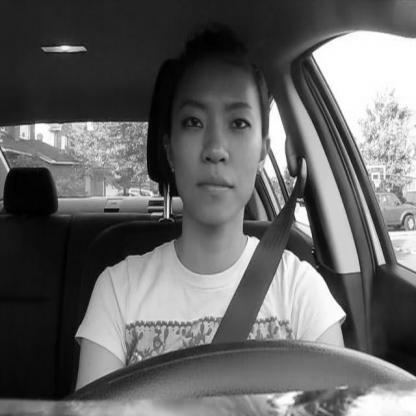seatbelt: (136, 26, 318, 342)
